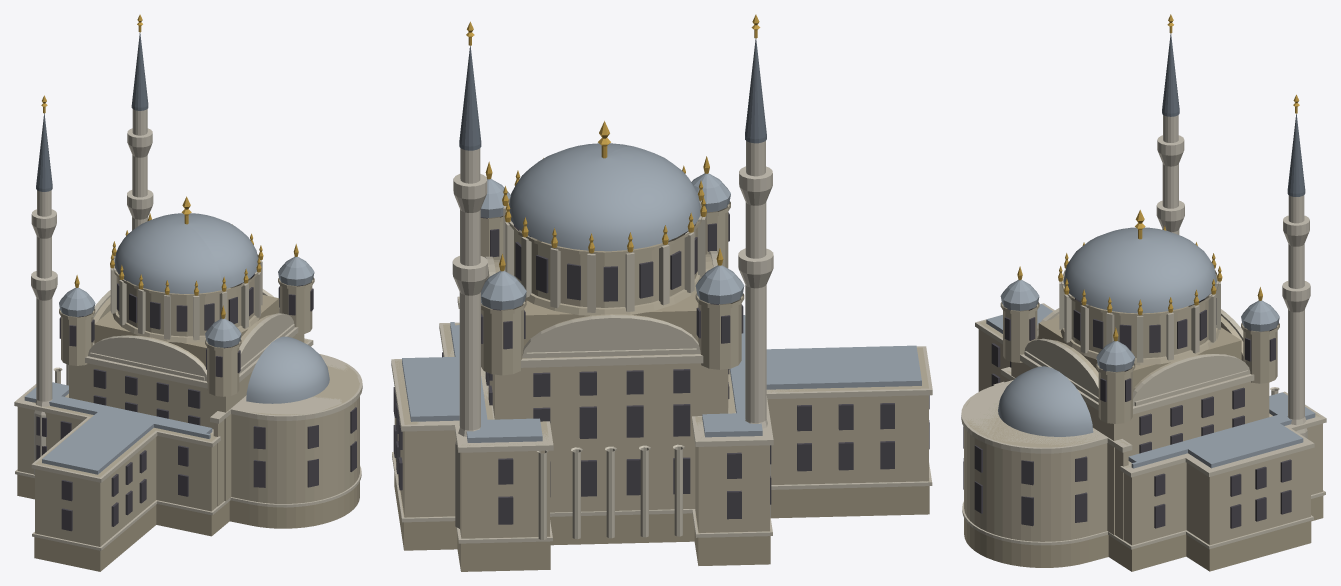
Rendered from nusretiye.web.glb.
3 renders of one model, left to right at view 1: azimuth 30°, elevation 25°; view 2: azimuth 150°, elevation 25°; view 3: azimuth 270°, elevation 25°, orthographic. The views are drawn at different scales.
Visible parts, largest first — view 1: wing, apse, harim, dome, base, minaret, drum, turret; view 2: wing, harim, base, minaret, dome, drum, turret; view 3: apse, wing, harim, dome, base, minaret, drum, turret.
Boxes of the visible parts, x1=… form: wing: x1=14, y1=364, x2=220, y2=546; apse: x1=210, y1=336, x2=362, y2=506; harim: x1=69, y1=287, x2=304, y2=501; dome: x1=114, y1=196, x2=258, y2=293; base: x1=15, y1=466, x2=361, y2=571; minaret: x1=31, y1=14, x2=153, y2=474; drum: x1=110, y1=224, x2=263, y2=342; turret: x1=59, y1=213, x2=314, y2=396; wing: x1=391, y1=315, x2=932, y2=539; harim: x1=485, y1=241, x2=729, y2=512; base: x1=392, y1=452, x2=932, y2=571; minaret: x1=452, y1=14, x2=773, y2=528; dome: x1=509, y1=121, x2=700, y2=251; drum: x1=502, y1=158, x2=706, y2=315; turret: x1=480, y1=156, x2=744, y2=375; apse: x1=961, y1=366, x2=1132, y2=541; wing: x1=975, y1=303, x2=1326, y2=545; harim: x1=1011, y1=305, x2=1269, y2=534; dome: x1=1063, y1=210, x2=1216, y2=313; base: x1=962, y1=490, x2=1325, y2=571; minaret: x1=1156, y1=14, x2=1310, y2=438; drum: x1=1058, y1=242, x2=1222, y2=365; turret: x1=1000, y1=226, x2=1279, y2=423.
Size of what is drawn, in the model's own units: 44.59 by 52.11 by 40.43.
